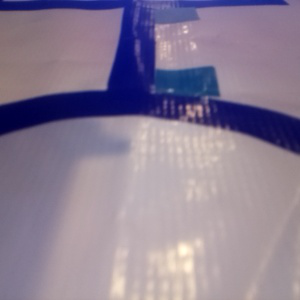bottom_right: (123, 1, 219, 37)
top_right: (108, 50, 247, 121)
